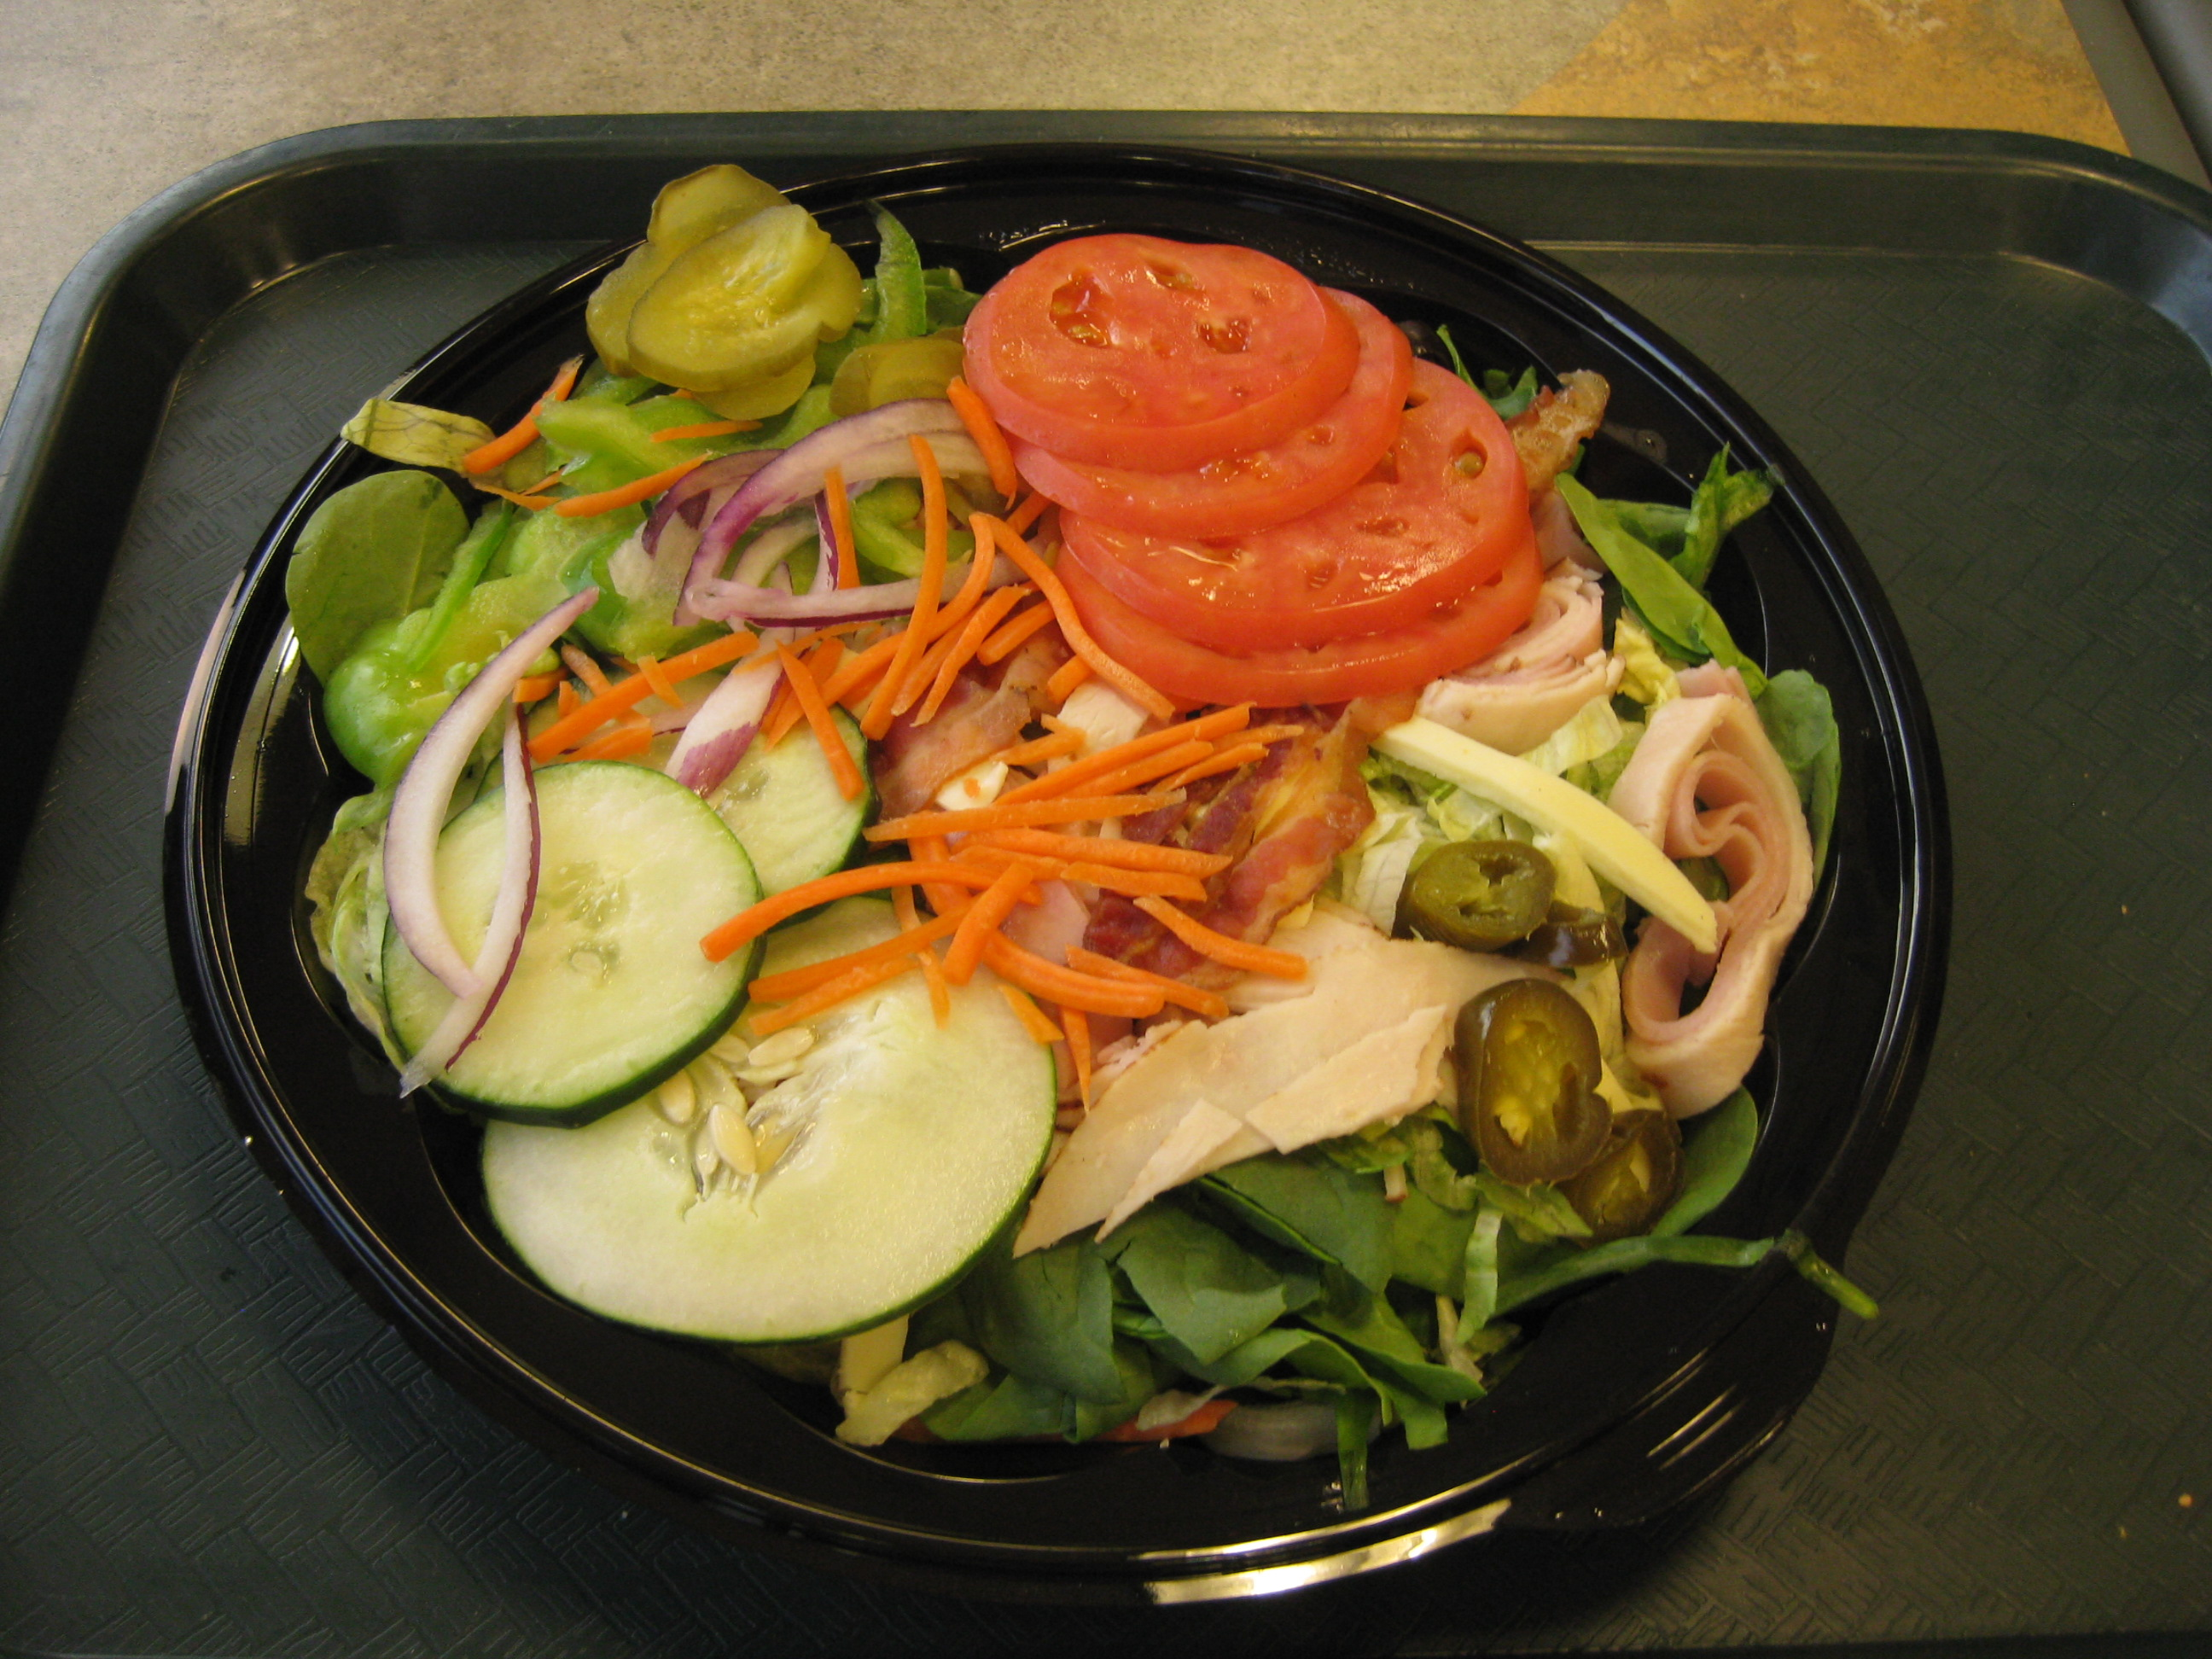salad: (310, 207, 1846, 1480)
